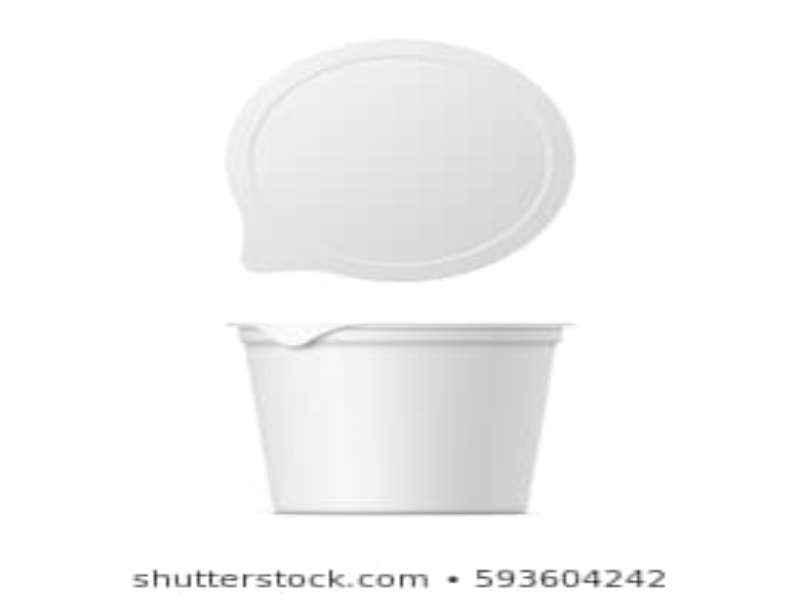yogurt-cup: (230, 318, 579, 518)
